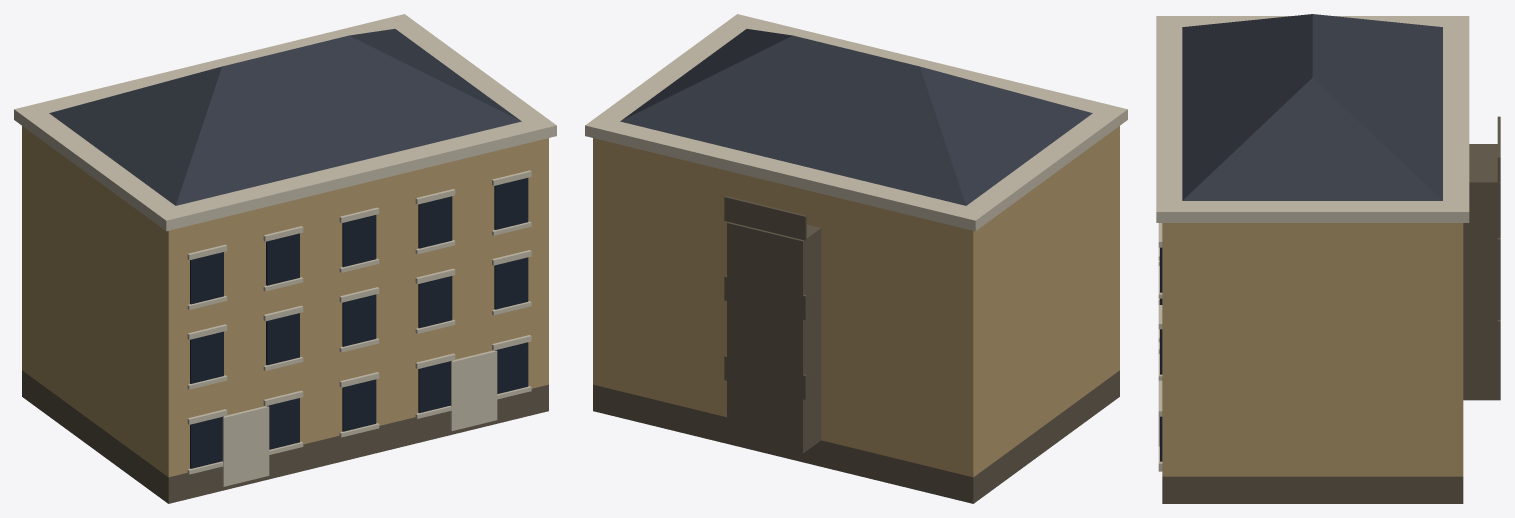
Rendered from building_london_s2_yellowstock_flats.glb.
3 views of the same model, side by side, from view 1: azimuth 30°, elevation 25°; view 2: azimuth 150°, elevation 25°; view 3: azimuth 270°, elevation 25° (orthographic). The views are drawn at different scales.
Parts seen in each view (by area): view 1: building_london_s2_yellowstock_flats; view 2: building_london_s2_yellowstock_flats; view 3: building_london_s2_yellowstock_flats.
Part boxes in pixels (bbox=[...]): building_london_s2_yellowstock_flats: bbox=[14, 14, 556, 503]; building_london_s2_yellowstock_flats: bbox=[585, 14, 1127, 503]; building_london_s2_yellowstock_flats: bbox=[1156, 14, 1500, 503].
Size of the model in its own units: 15.4 by 13.3 by 11.45.
1 material, 1 textured.
